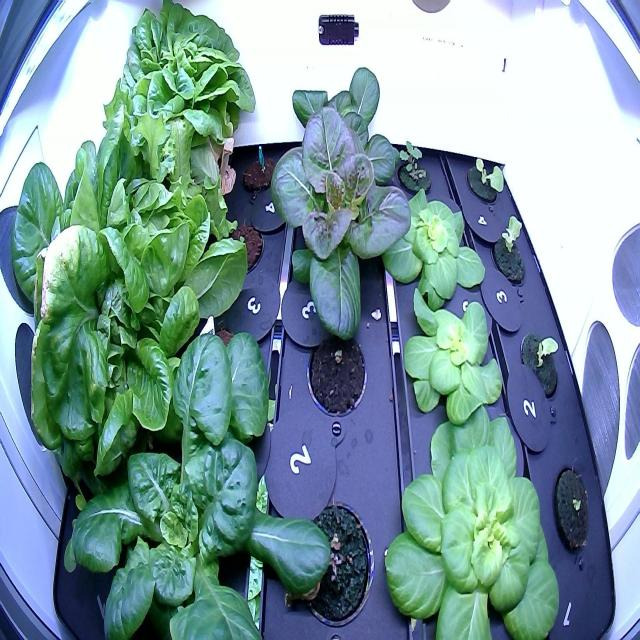Ready: (7, 134, 253, 480), (84, 2, 259, 210)
germination: (288, 485, 378, 629), (298, 319, 372, 426), (549, 453, 599, 564), (207, 204, 271, 290)
pod: (240, 131, 277, 203)
young: (55, 317, 336, 640), (376, 396, 565, 638), (271, 106, 420, 348), (264, 45, 408, 207), (393, 281, 513, 446), (369, 175, 490, 323), (515, 314, 563, 408), (485, 208, 530, 294), (460, 145, 507, 215)
